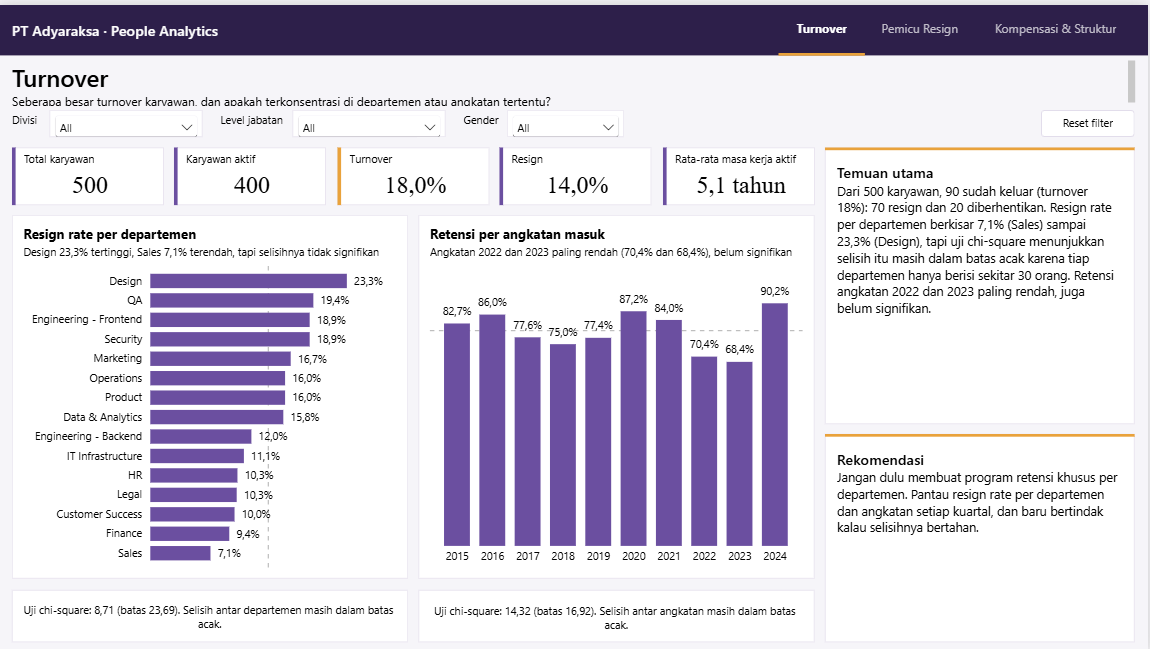

The page's visual inventory and layout, read from the dashboard file:
{"tool":"powerbi","page":{"name":"Turnover","canvas":[1280,720],"ordinal":0},"visuals":[{"type":"shape","box":[16,158,168.8,64],"z":0},{"type":"shape","box":[16,158,4,64],"z":1000},{"type":"textbox","box":[30,164,146.8,16],"z":2000},{"type":"card","fields":{"Values":["_Ukuran.Total Karyawan"]},"box":[30,180,146.8,38],"z":3000},{"type":"shape","box":[196.8,158,168.8,64],"z":4000},{"type":"shape","box":[196.8,158,4,64],"z":5000},{"type":"textbox","box":[210.8,164,146.8,16],"z":6000},{"type":"card","fields":{"Values":["_Ukuran.Karyawan Aktif"]},"box":[210.8,180,146.8,38],"z":7000},{"type":"shape","box":[377.6,158,168.8,64],"z":8000},{"type":"shape","box":[377.6,158,4,64],"z":9000},{"type":"textbox","box":[391.6,164,146.8,16],"z":10000},{"type":"card","fields":{"Values":["_Ukuran.Turnover %"]},"box":[391.6,180,146.8,38],"z":11000},{"type":"shape","box":[558.4,158,168.8,64],"z":12000},{"type":"shape","box":[558.4,158,4,64],"z":13000},{"type":"textbox","box":[572.4,164,146.8,16],"z":14000},{"type":"card","fields":{"Values":["_Ukuran.Resign %"]},"box":[572.4,180,146.8,38],"z":15000},{"type":"shape","box":[739.2,158,168.8,64],"z":16000},{"type":"shape","box":[739.2,158,4,64],"z":17000},{"type":"textbox","box":[753.2,164,146.8,16],"z":18000},{"type":"card","fields":{"Values":["_Ukuran.Masa Kerja Aktif"]},"box":[753.2,180,146.8,38],"z":19000},{"type":"clusteredBarChart","title":"Resign rate per departemen","fields":{"Category":["departments.dept_name"],"Y":["_Ukuran.Resign % Dept"]},"box":[16,234,440,404],"z":20000},{"type":"shape","box":[16,650,440,58],"z":21000},{"type":"card","fields":{"Values":["_Ukuran.Teks Uji Dept"]},"box":[26.5,655.8,419.5,51],"z":22000},{"type":"clusteredColumnChart","title":"Retensi per angkatan masuk","fields":{"Category":["employees.hire_year"],"Y":["_Ukuran.Retensi %"]},"box":[468,234,440,404],"z":24000},{"type":"shape","box":[468,650,440,58],"z":25000},{"type":"card","fields":{"Values":["_Ukuran.Teks Uji Angkatan"]},"box":[478.1,655.8,419.5,52.9],"z":26000},{"type":"shape","box":[920,158,344,307],"z":28000},{"type":"shape","box":[920,158,344,3],"z":29000},{"type":"textbox","box":[934,175,316,280],"z":30000},{"type":"shape","box":[920,477,344,231],"z":31000},{"type":"shape","box":[920,477,344,3],"z":32000},{"type":"textbox","box":[934,494,316,204],"z":33000},{"type":"shape","box":[0,0,1280,56],"z":34000},{"type":"textbox","box":[16,16,360,26],"z":35000},{"type":"actionButton","box":[868,0,96,53],"z":36000},{"type":"actionButton","box":[964,0,124,53],"z":37000},{"type":"actionButton","box":[1088,0,176,53],"z":38000},{"type":"shape","box":[868,53,96,3],"z":39000},{"type":"textbox","box":[16,62,1248,50],"z":40000},{"type":"textbox","box":[16,120,38,22],"z":41000},{"type":"slicer","fields":{"Values":["departments.division"]},"box":[58,116,170,30],"z":42000},{"type":"textbox","box":[248,120,76,22],"z":43000},{"type":"slicer","fields":{"Values":["employees.level_jabatan"]},"box":[328,116,170,30],"z":44000},{"type":"textbox","box":[518,120,44,22],"z":45000},{"type":"slicer","fields":{"Values":["employees.gender"]},"box":[566,116,130,30],"z":46000},{"type":"actionButton","box":[1160,116,104,30],"z":47000}]}

Visuals, with their boxes in screenshot pixels (x1, y1, x2, y2), scaled from the page's 1280x720 canvas onto the 1150x649 screenshot:
shape: rect(14, 142, 166, 200)
shape: rect(14, 142, 18, 200)
textbox: rect(27, 148, 159, 162)
card - _Ukuran.Total Karyawan: rect(27, 162, 159, 197)
shape: rect(177, 142, 328, 200)
shape: rect(177, 142, 180, 200)
textbox: rect(189, 148, 321, 162)
card - _Ukuran.Karyawan Aktif: rect(189, 162, 321, 197)
shape: rect(339, 142, 491, 200)
shape: rect(339, 142, 343, 200)
textbox: rect(352, 148, 484, 162)
card - _Ukuran.Turnover %: rect(352, 162, 484, 197)
shape: rect(502, 142, 653, 200)
shape: rect(502, 142, 505, 200)
textbox: rect(514, 148, 646, 162)
card - _Ukuran.Resign %: rect(514, 162, 646, 197)
shape: rect(664, 142, 816, 200)
shape: rect(664, 142, 668, 200)
textbox: rect(677, 148, 809, 162)
card - _Ukuran.Masa Kerja Aktif: rect(677, 162, 809, 197)
"Resign rate per departemen" clusteredBarChart: rect(14, 211, 410, 575)
shape: rect(14, 586, 410, 638)
card - _Ukuran.Teks Uji Dept: rect(24, 591, 401, 637)
"Retensi per angkatan masuk" clusteredColumnChart: rect(420, 211, 816, 575)
shape: rect(420, 586, 816, 638)
card - _Ukuran.Teks Uji Angkatan: rect(430, 591, 806, 639)
shape: rect(827, 142, 1136, 419)
shape: rect(827, 142, 1136, 145)
textbox: rect(839, 158, 1123, 410)
shape: rect(827, 430, 1136, 638)
shape: rect(827, 430, 1136, 433)
textbox: rect(839, 445, 1123, 629)
shape: rect(0, 0, 1149, 50)
textbox: rect(14, 14, 338, 38)
actionButton: rect(780, 0, 866, 48)
actionButton: rect(866, 0, 978, 48)
actionButton: rect(978, 0, 1136, 48)
shape: rect(780, 48, 866, 50)
textbox: rect(14, 56, 1136, 101)
textbox: rect(14, 108, 49, 128)
slicer - departments.division: rect(52, 105, 205, 132)
textbox: rect(223, 108, 291, 128)
slicer - employees.level_jabatan: rect(295, 105, 447, 132)
textbox: rect(465, 108, 505, 128)
slicer - employees.gender: rect(509, 105, 625, 132)
actionButton: rect(1042, 105, 1136, 132)
